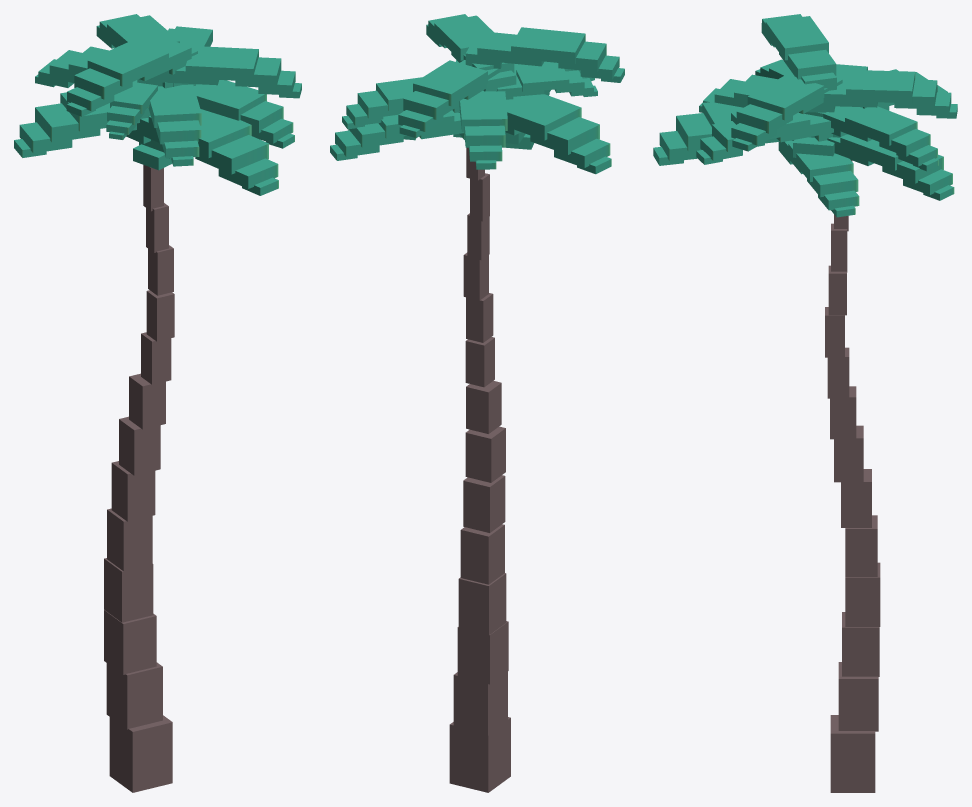
The model's file is PalmTree1.fbx.
3 renders of one model, left to right at view 1: azimuth 30°, elevation 25°; view 2: azimuth 150°, elevation 25°; view 3: azimuth 270°, elevation 25°, orthographic. The views are drawn at different scales.
Visible parts, largest first — view 1: pCube9419, pCube9406, pCube9414, pCube9386, pCube9407, pCube9410, pCube9408, pCube9387, pCube9388, pCube9393, pCube9389, pCube9390 (+12 smaller); view 2: pCube9419, pCube9410, pCube9413, pCube9386, pCube9409, pCube9387, pCube9412, pCube9388, pCube9414, pCube9393, pCube9389, pCube9411 (+9 smaller); view 3: pCube9413, pCube9414, pCube9411, pCube9419, pCube9418, pCube9412, pCube9386, pCube9406, pCube9407, pCube9387, pCube9388, pCube9393 (+10 smaller).
Boxes of the visible parts, left/top/right/bottom form: pCube9419: left=66, top=36, right=197, bottom=116; pCube9406: left=126, top=109, right=278, bottom=195; pCube9414: left=137, top=46, right=301, bottom=98; pCube9386: left=109, top=715, right=172, bottom=792; pCube9407: left=194, top=80, right=294, bottom=148; pCube9410: left=14, top=92, right=150, bottom=157; pCube9408: left=148, top=84, right=201, bottom=166; pCube9387: left=106, top=662, right=162, bottom=729; pCube9388: left=104, top=610, right=156, bottom=674; pCube9393: left=104, top=558, right=153, bottom=622; pCube9389: left=107, top=508, right=152, bottom=571; pCube9390: left=111, top=461, right=155, bottom=521; pCube9419: left=465, top=27, right=624, bottom=82; pCube9410: left=505, top=94, right=611, bottom=174; pCube9413: left=398, top=60, right=499, bottom=137; pCube9386: left=449, top=717, right=510, bottom=792; pCube9409: left=459, top=90, right=507, bottom=169; pCube9387: left=453, top=671, right=507, bottom=735; pCube9412: left=330, top=110, right=464, bottom=160; pCube9388: left=457, top=621, right=508, bottom=684; pCube9414: left=426, top=14, right=516, bottom=91; pCube9393: left=458, top=573, right=506, bottom=635; pCube9389: left=460, top=524, right=504, bottom=584; pCube9411: left=342, top=77, right=459, bottom=129; pCube9413: left=807, top=70, right=957, bottom=118; pCube9414: left=731, top=74, right=842, bottom=151; pCube9411: left=823, top=106, right=938, bottom=171; pCube9419: left=761, top=14, right=836, bottom=90; pCube9418: left=778, top=140, right=859, bottom=217; pCube9412: left=827, top=134, right=954, bottom=200; pCube9386: left=830, top=715, right=875, bottom=792; pCube9406: left=653, top=101, right=791, bottom=165; pCube9407: left=696, top=112, right=847, bottom=164; pCube9387: left=838, top=662, right=878, bottom=731; pCube9388: left=842, top=612, right=879, bottom=676; pCube9393: left=845, top=562, right=880, bottom=626.
Bounding box in the file's own units: 3.24 × 9.82 × 3.71.
